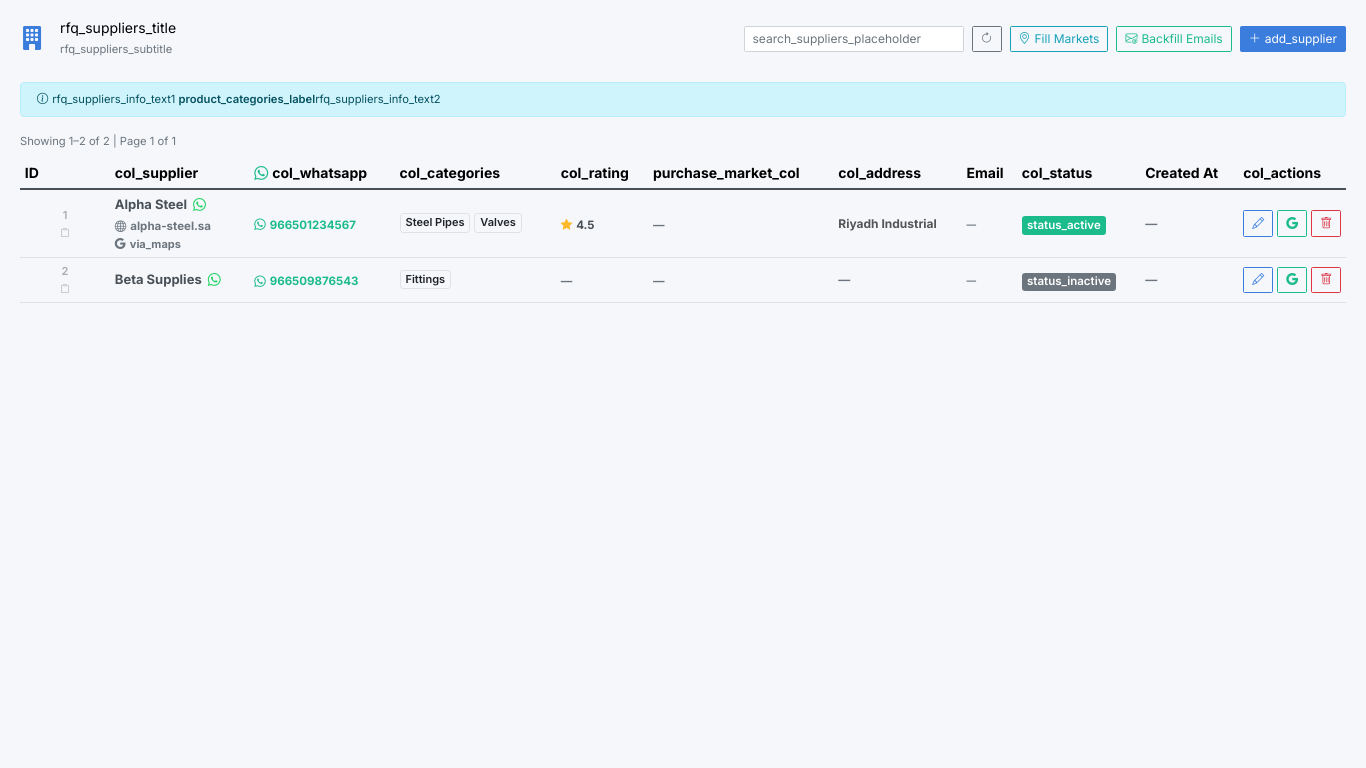
Test: RFQSuppliersIndex smoke tests › 8. SupplierForm renders name and phone inputs
This screenshot has width=1366, height=768.
Click the button "add_supplier" at (1293, 39), box 1240,26 -> 1346,52
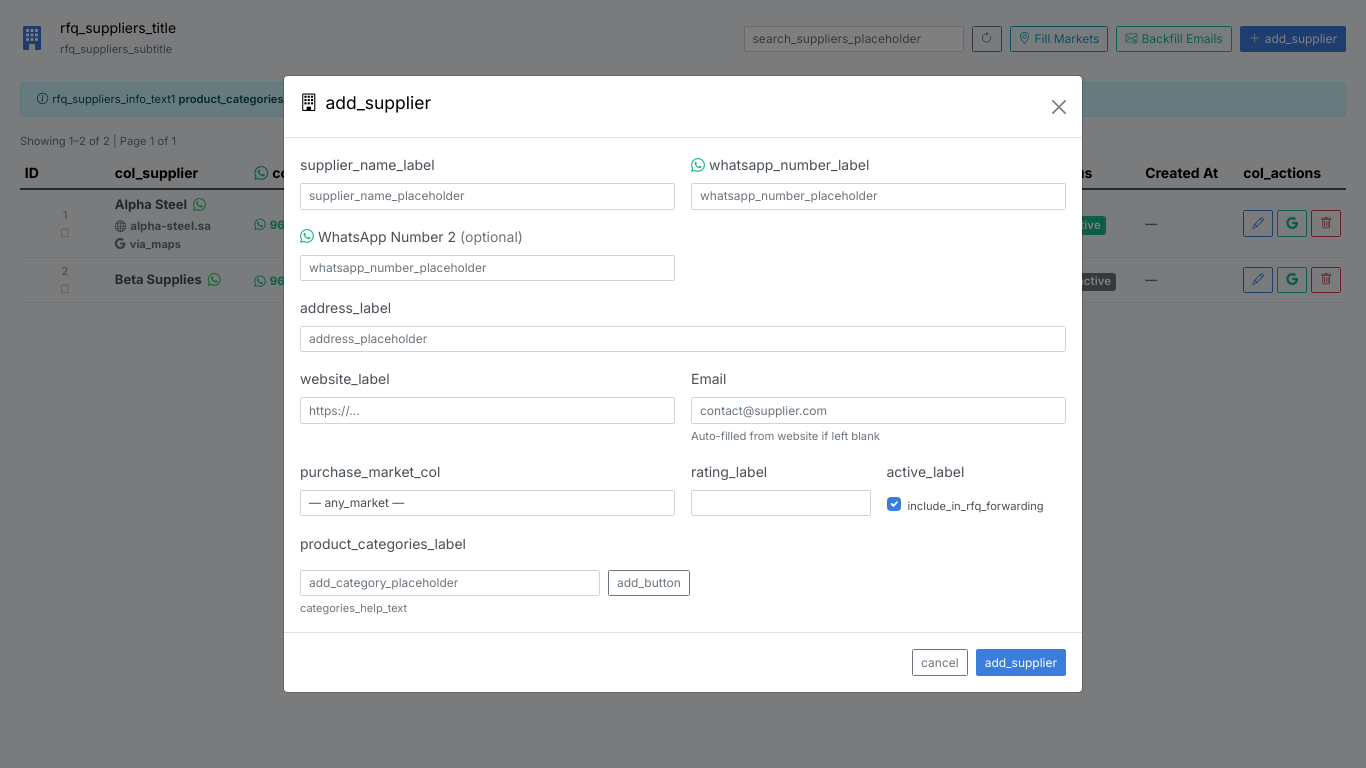
Now the field with placeholder "supplier_name_placeholder" is shown, box 300,183 -> 675,210
